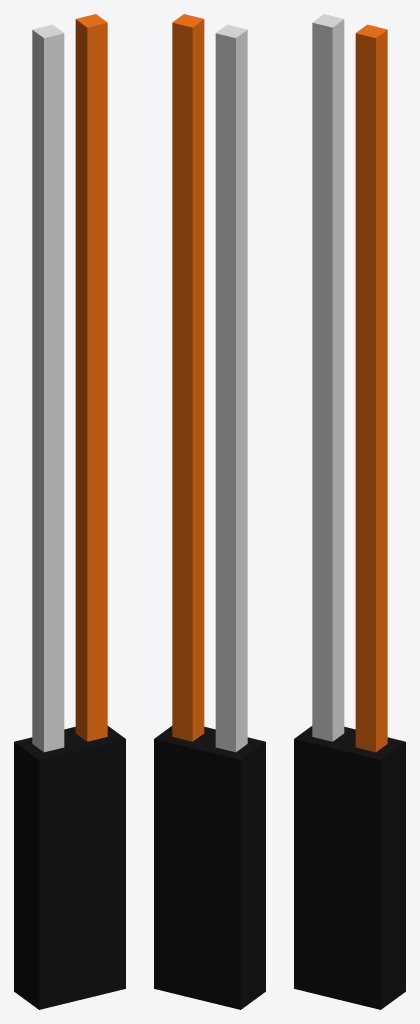
The model's file is PowerSwitchPlug.obj.
The picture shows the model from 3 angles, left to right: view 1: azimuth 30°, elevation 25°; view 2: azimuth 150°, elevation 25°; view 3: azimuth 330°, elevation 25°; orthographic projection.
Visible parts, largest first — view 1: Housing, Wire_White, Wire_Orange; view 2: Housing, Wire_White, Wire_Orange; view 3: Housing, Wire_White, Wire_Orange.
Boxes of the visible parts, box(x1,y1,x2,y2) form: Housing: box(14, 726, 125, 1009); Wire_White: box(32, 24, 64, 752); Wire_Orange: box(75, 14, 107, 741); Housing: box(154, 726, 265, 1009); Wire_White: box(215, 24, 247, 752); Wire_Orange: box(172, 14, 204, 741); Housing: box(294, 726, 405, 1009); Wire_White: box(312, 14, 344, 741); Wire_Orange: box(355, 24, 387, 752).
Bounding box in the file's own units: 0.00508 × 0.054 × 0.00254.
